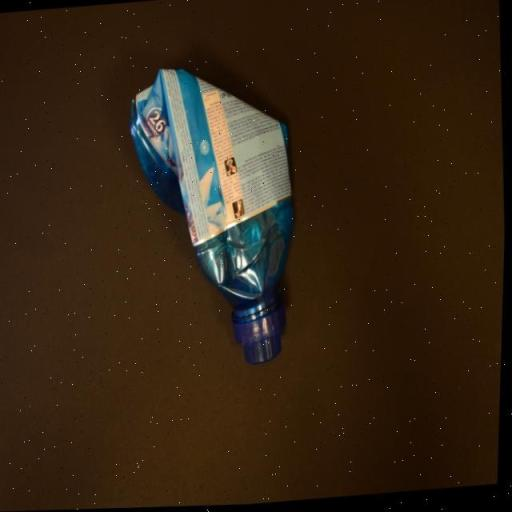plastic: (122, 56, 304, 378)
